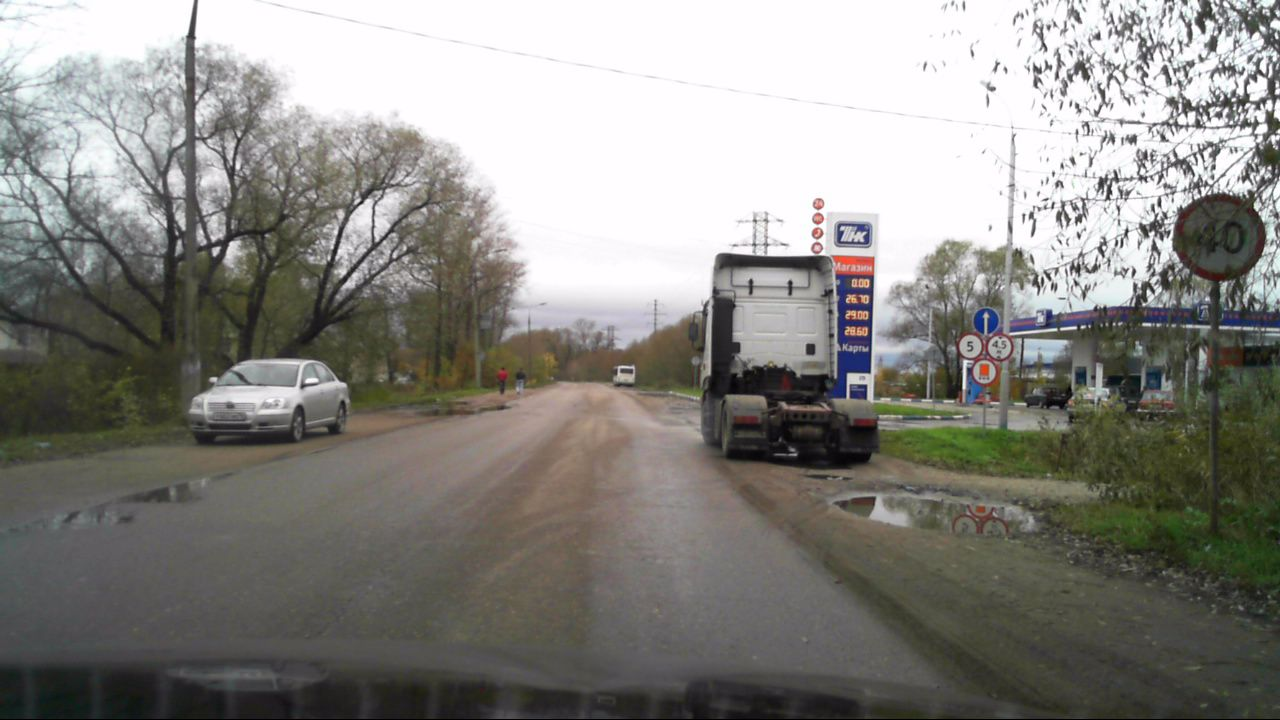speed_warning_40: (1171, 190, 1266, 283)
